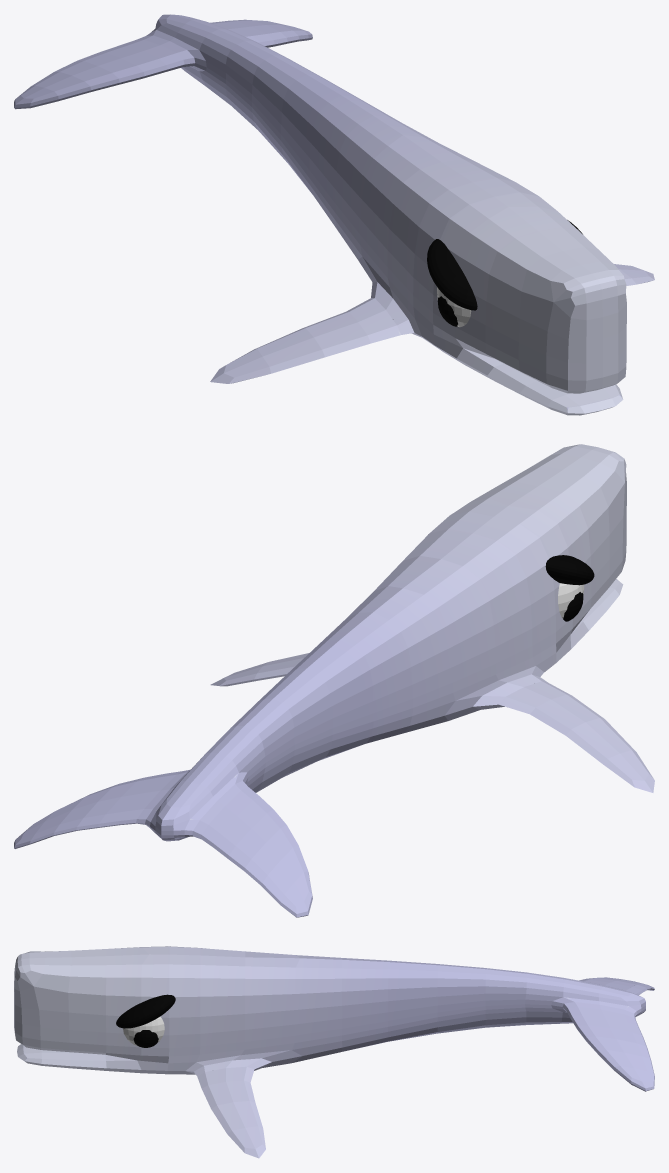
Rendered from Whale.fbx.
3 renders of one model, top to bottom at view 1: azimuth 30°, elevation 25°; view 2: azimuth 150°, elevation 25°; view 3: azimuth 270°, elevation 25°, orthographic. The views are drawn at different scales.
Visible parts, largest first — view 1: Cube, Sphere.002; view 2: Cube, Sphere.002; view 3: Cube, Sphere.002, Sphere, Sphere.001.
Part boxes in pixels (x1,y1,x2,y2): Cube: (14,14,654,415); Sphere.002: (427,220,582,310); Cube: (14,444,654,917); Sphere.002: (545,555,594,585); Cube: (14,946,654,1158); Sphere.002: (116,994,175,1028); Sphere: (123,1016,164,1045); Sphere.001: (133,1030,158,1047).
Size of the model in its own units: 654 by 249 by 1144.
Materials: 3 (1 with a texture image).
